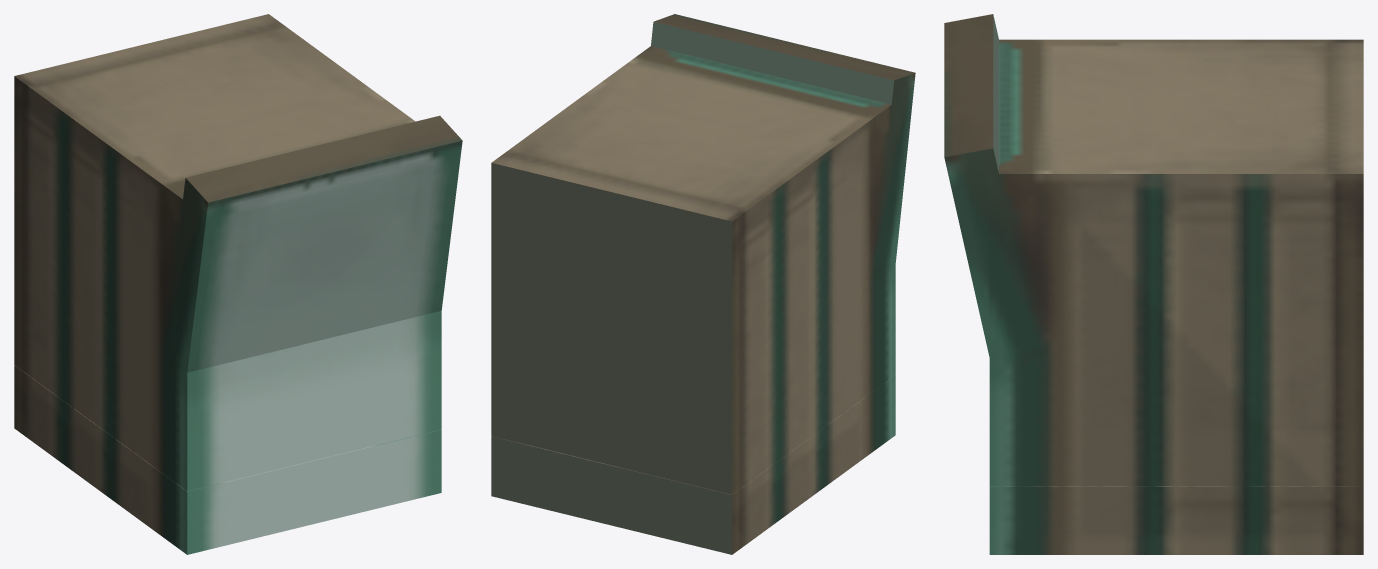
The model's file is section-4.obj.
The picture shows the model from 3 angles, left to right: view 1: azimuth 30°, elevation 25°; view 2: azimuth 150°, elevation 25°; view 3: azimuth 270°, elevation 25°; orthographic projection. The views are drawn at different scales.
Size of the model in its own units: 0.6409 by 0.905 by 0.8457.
